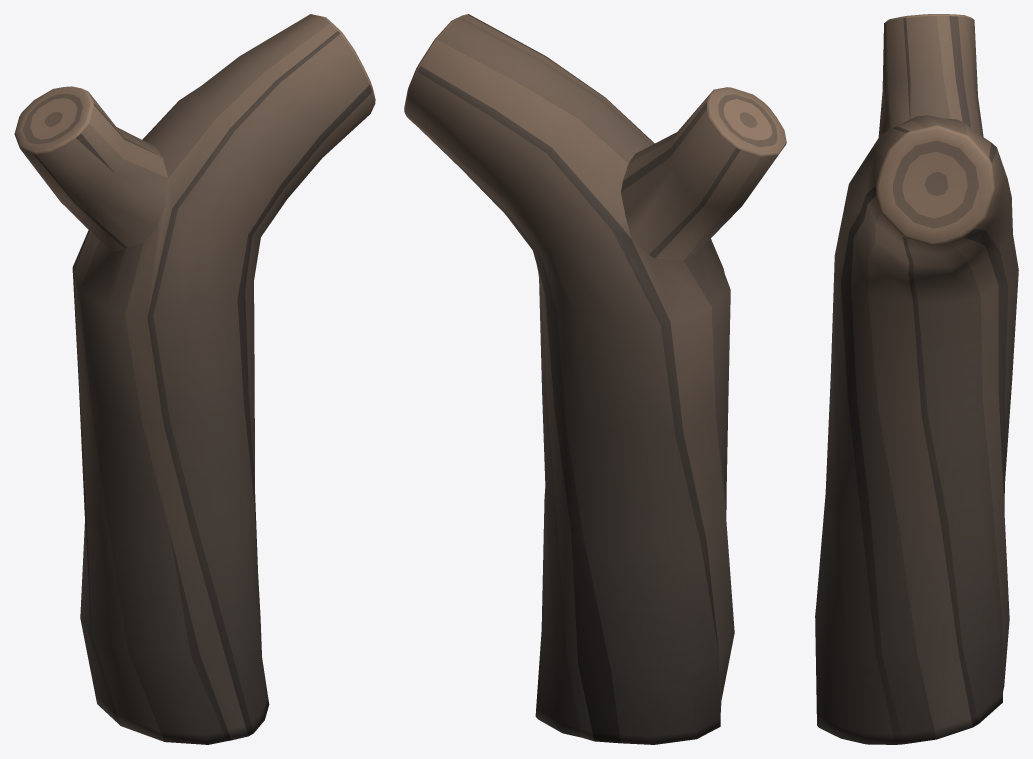
File: elf_totem_pole_4.fbx
The picture shows the model from 3 angles, left to right: view 1: azimuth 30°, elevation 25°; view 2: azimuth 150°, elevation 25°; view 3: azimuth 270°, elevation 25°; orthographic projection. The views are drawn at different scales.
Visible parts, largest first — view 1: elf_totem_pole_4; view 2: elf_totem_pole_4; view 3: elf_totem_pole_4.
Part boxes in pixels (x1=…): elf_totem_pole_4: x1=14, y1=14, x2=375, y2=744; elf_totem_pole_4: x1=404, y1=14, x2=786, y2=744; elf_totem_pole_4: x1=815, y1=14, x2=1018, y2=744.
Bounding box in the file's own units: 2.68 × 4.86 × 1.34.
